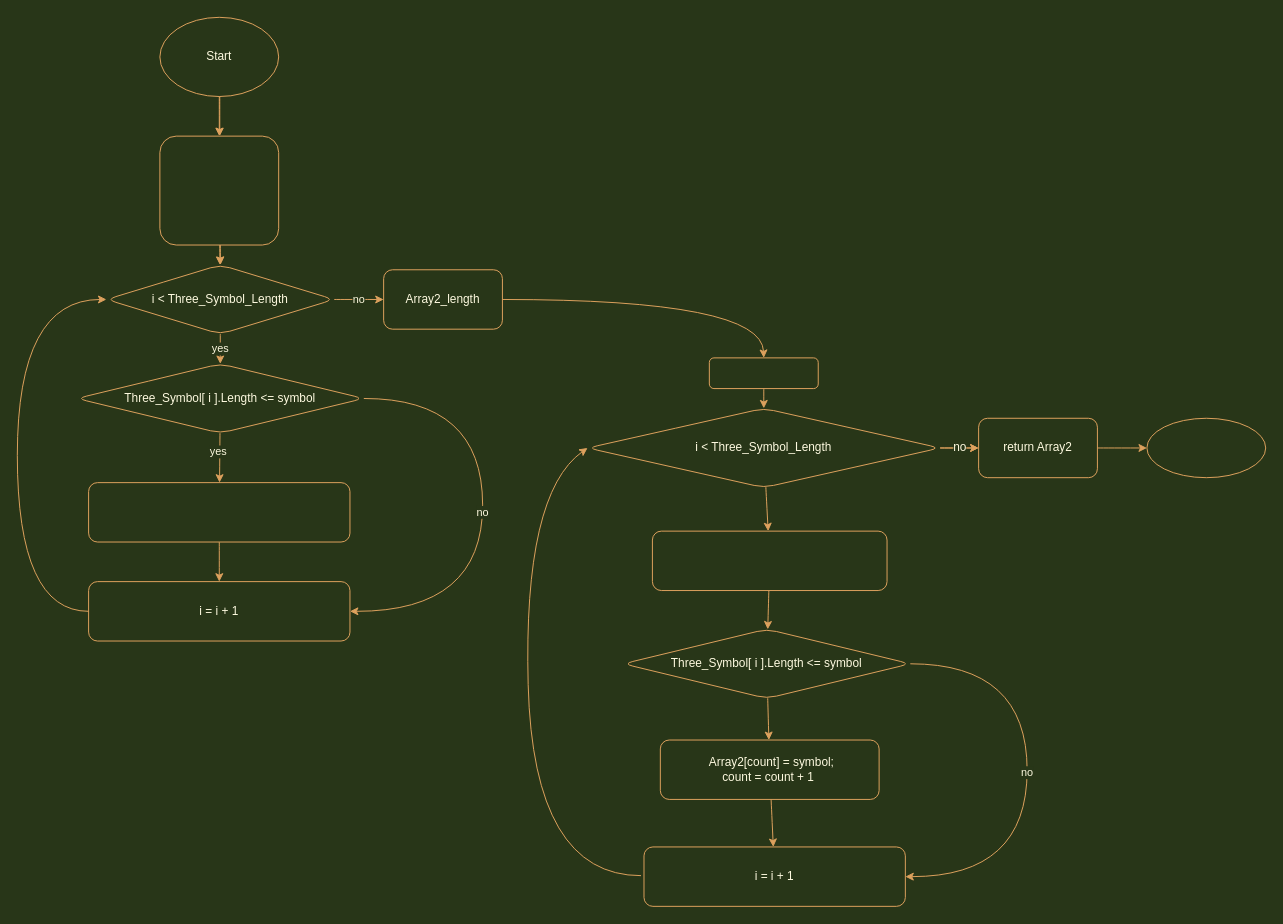
This 1283x924 diagram has some shape labels left out. Here are the shapes that lost their labels. From the top down, the centre of each, then its label:
the point at 219,190: ThreeSymbol Array2 Three_Symbol_Length Array2_length i = 0 count = 0 symbol = 3
the point at 763,373: count = 0 i = 0
the point at 1206,447: end
the point at 219,512: сount = count + 1
the point at 769,560: symbol = threeSymbol[i]
